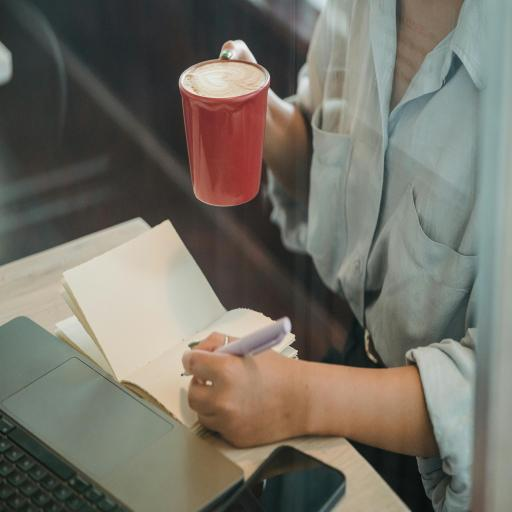cup: (178, 58, 270, 206)
phone: (218, 444, 346, 512)
